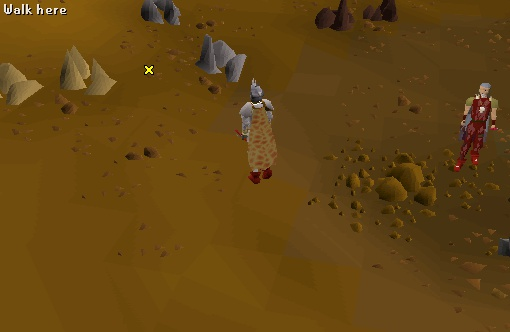clay: (52, 39, 119, 108)
tin: (187, 29, 253, 87)
